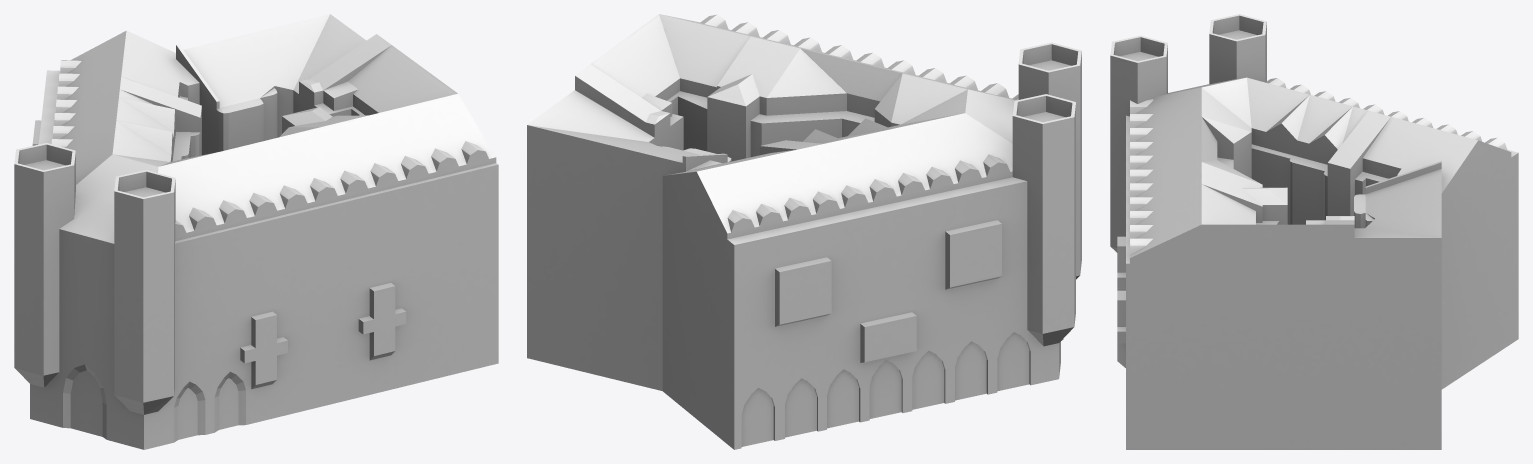
File: rosensteinhouse.dae
3 renders of one model, left to right at view 1: azimuth 30°, elevation 25°; view 2: azimuth 150°, elevation 25°; view 3: azimuth 270°, elevation 25°, orthographic. The views are drawn at different scales.
Visible parts, largest first — view 1: RosensteinHouse, RosensteinHouse001; view 2: RosensteinHouse, RosensteinHouse001; view 3: RosensteinHouse001, RosensteinHouse.
Boxes of the visible parts, x1,y1,x2,y2 form: RosensteinHouse: (14, 30, 498, 449); RosensteinHouse001: (176, 14, 391, 155); RosensteinHouse: (591, 14, 1081, 449); RosensteinHouse001: (527, 64, 731, 390); RosensteinHouse001: (1126, 161, 1441, 449); RosensteinHouse: (1110, 14, 1518, 389).
Bounding box in the file's own units: 0.0862 × 0.0768 × 0.0503.
1 material, 1 textured.
